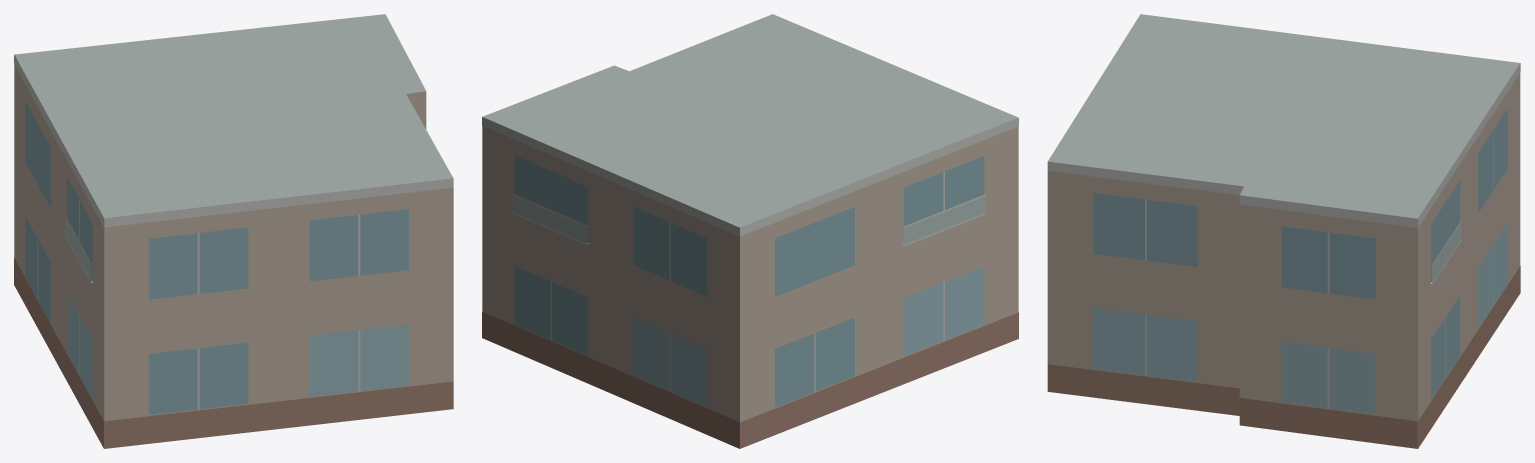
The model's file is survey-upis-32605627.glb.
3 renders of one model, left to right at view 1: azimuth 30°, elevation 25°; view 2: azimuth 150°, elevation 25°; view 3: azimuth 270°, elevation 25°, orthographic. The views are drawn at different scales.
Visible parts, largest first — view 1: survey-upis-32605627.tmp; view 2: survey-upis-32605627.tmp; view 3: survey-upis-32605627.tmp.
Boxes of the visible parts, <box> form: survey-upis-32605627.tmp: <box>14,14,453,448</box>; survey-upis-32605627.tmp: <box>482,14,1018,448</box>; survey-upis-32605627.tmp: <box>1047,14,1520,448</box>.
Size of the model in its own units: 11.65 by 6.1 by 11.37.
